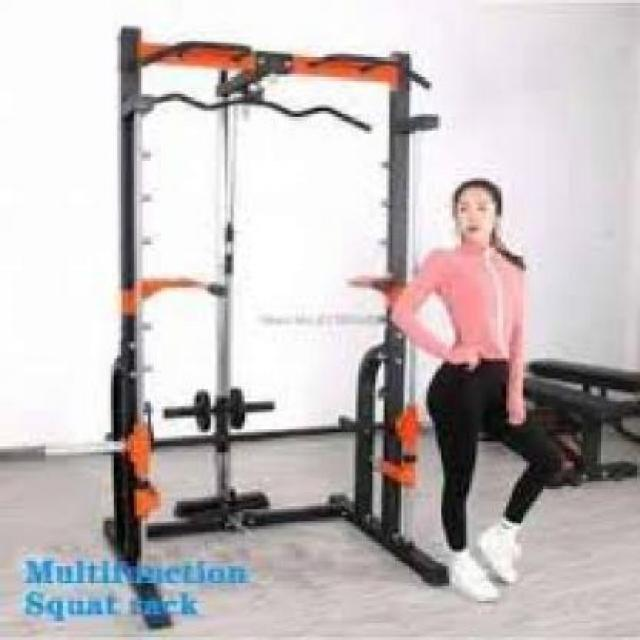smith machine: (108, 20, 435, 568)
